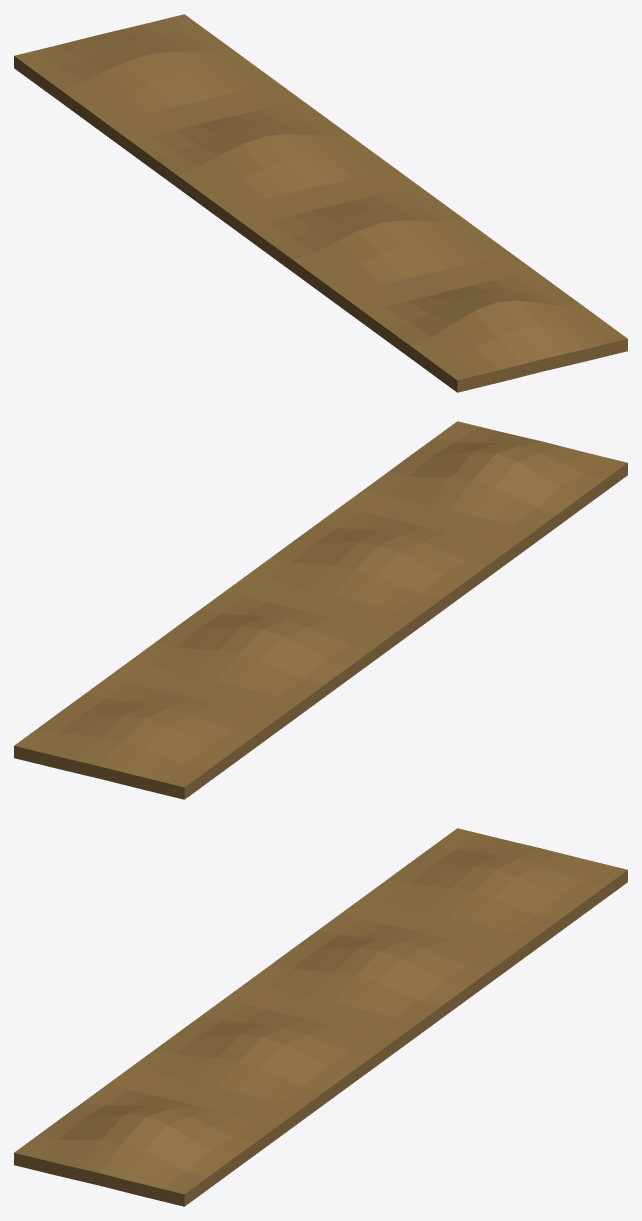
The model's file is O_Clutter_VeggyDirt_1.fbx.
3 views of the same model, one above another, from view 1: azimuth 30°, elevation 25°; view 2: azimuth 150°, elevation 25°; view 3: azimuth 330°, elevation 25° (orthographic).
Parts seen in each view (by area): view 1: pCube4; view 2: pCube4; view 3: pCube4.
Part boxes in pixels (x1=…): pCube4: x1=14, y1=14, x2=627, y2=392; pCube4: x1=14, y1=421, x2=627, y2=799; pCube4: x1=14, y1=828, x2=627, y2=1206.
Size of the model in its own units: 1.53 by 0.3015 by 6.87.
